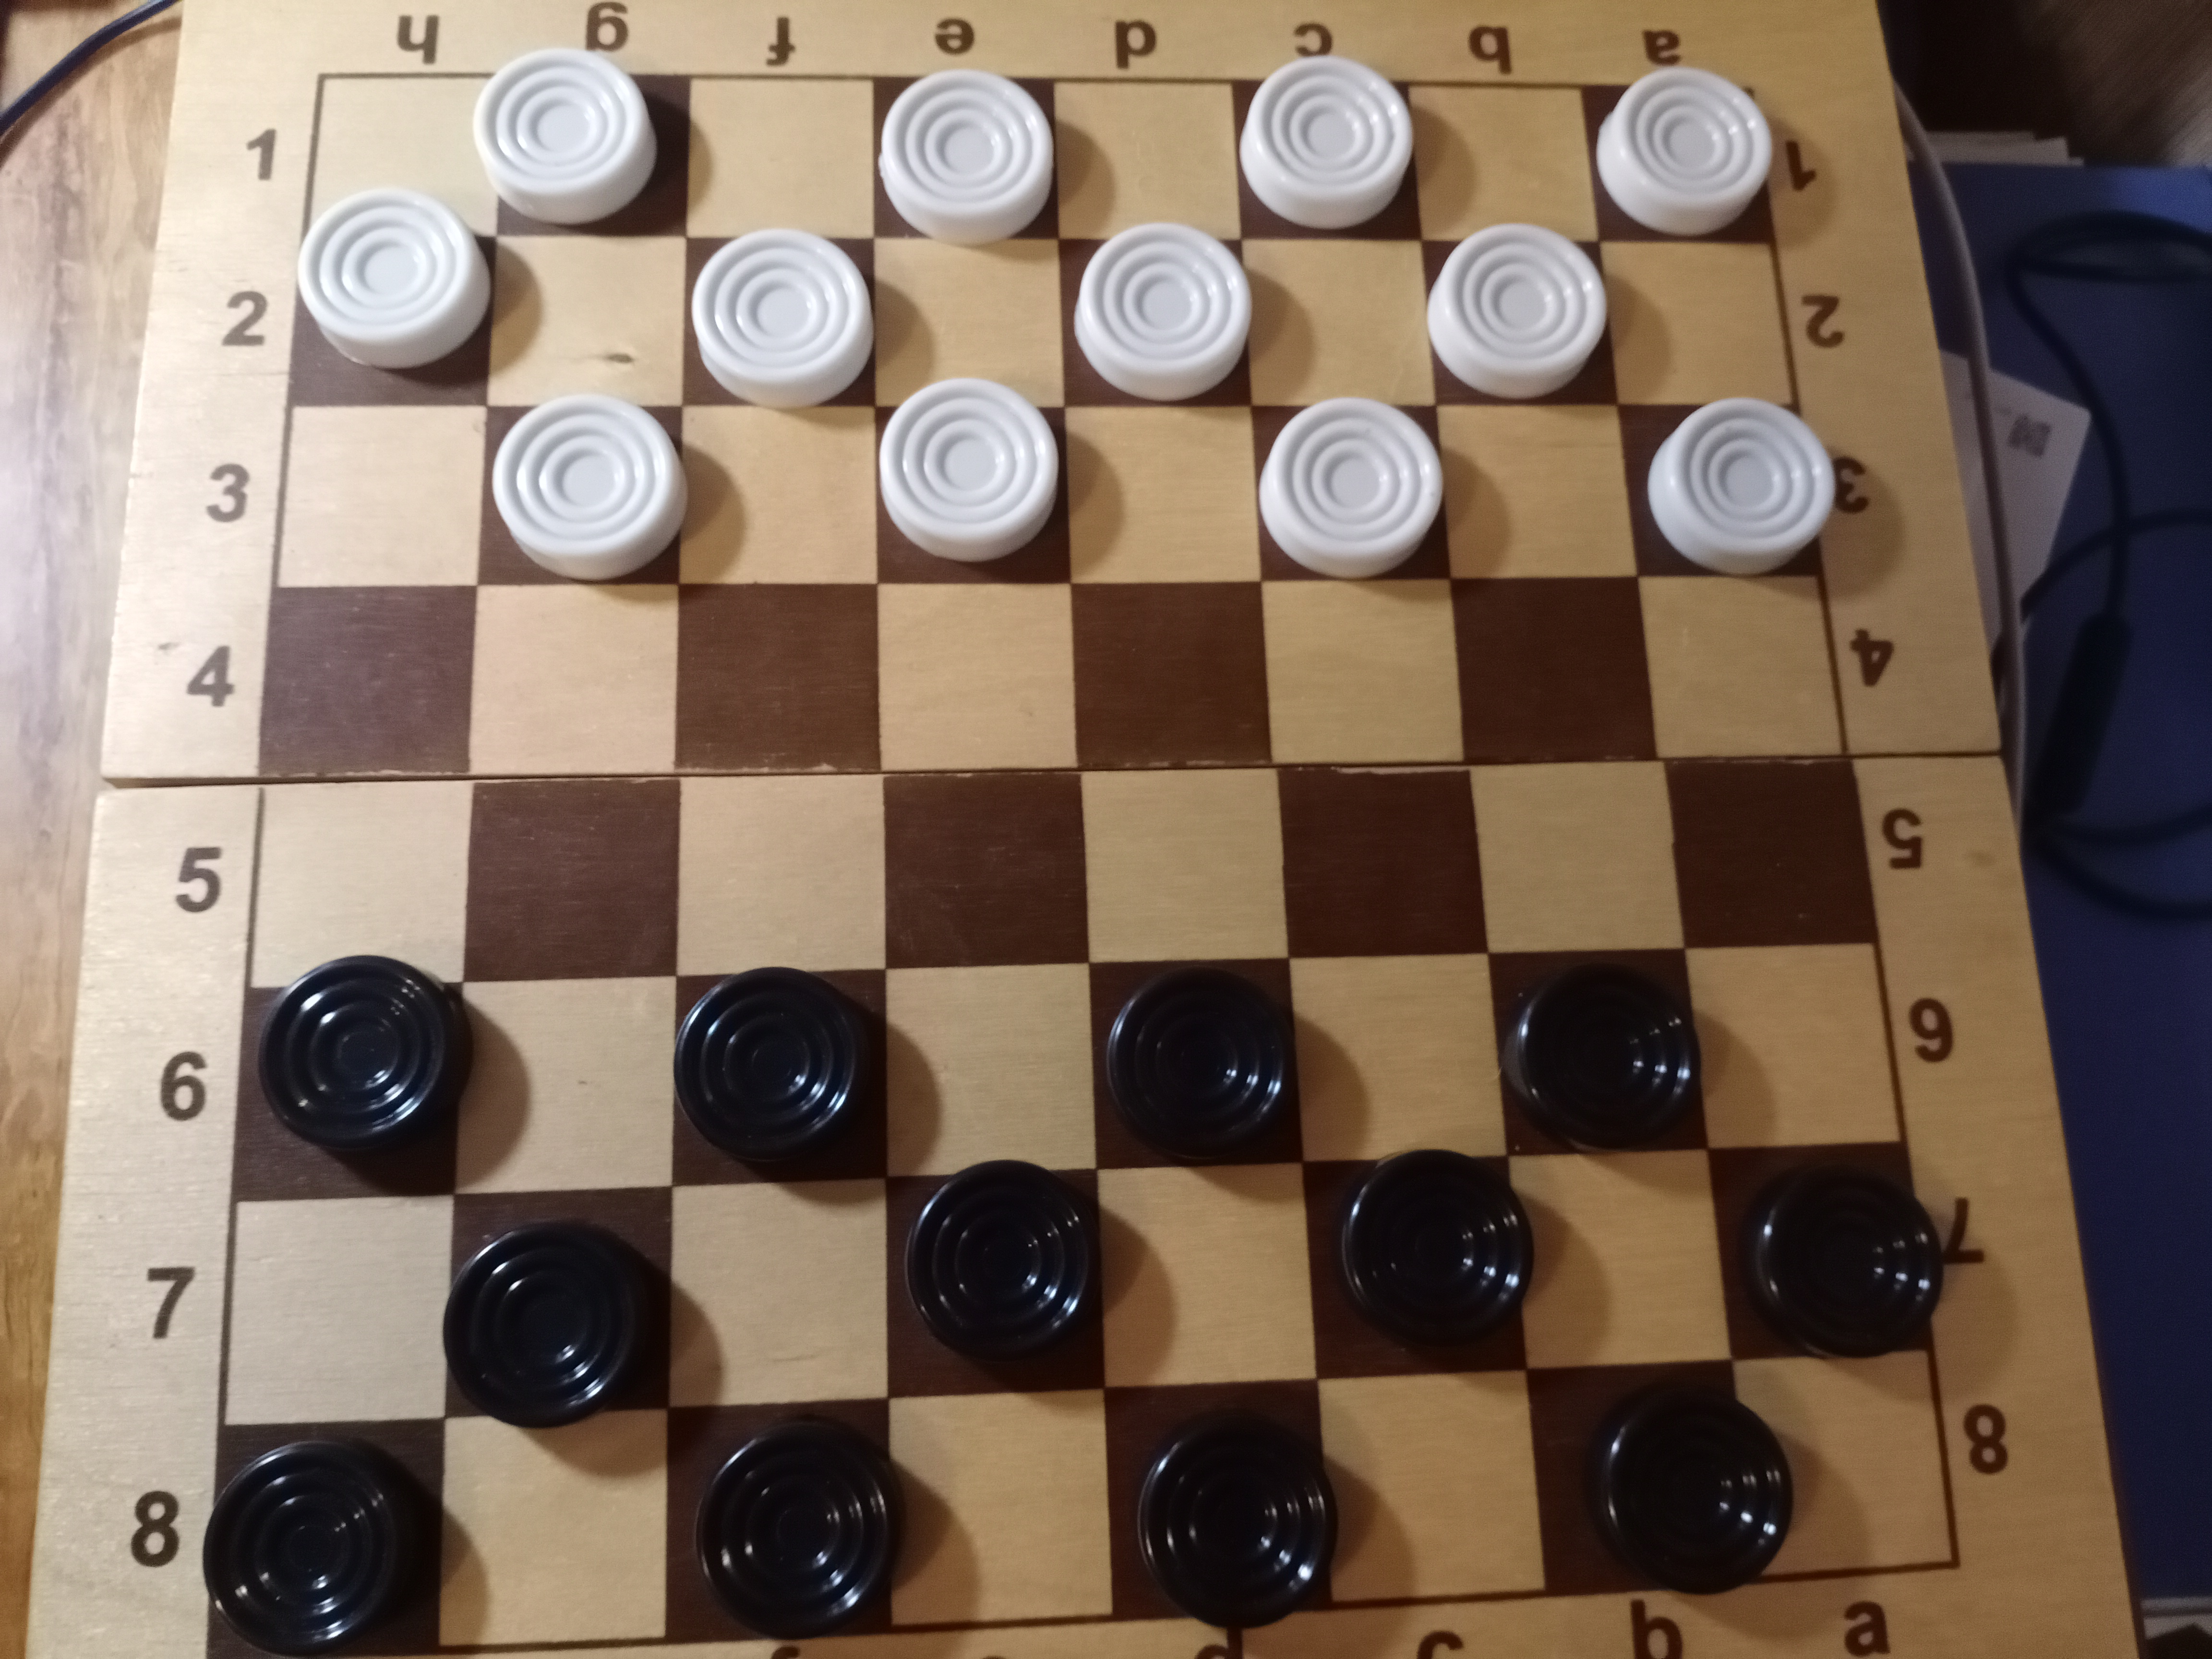White_Draught: (293, 186, 498, 408), (472, 47, 688, 237), (874, 378, 1071, 586), (475, 392, 688, 584), (1615, 397, 1838, 575), (1251, 397, 1453, 580), (1059, 223, 1254, 410), (1231, 54, 1421, 242), (1421, 223, 1618, 404), (683, 230, 874, 410), (1583, 68, 1775, 247), (874, 70, 1061, 246)
